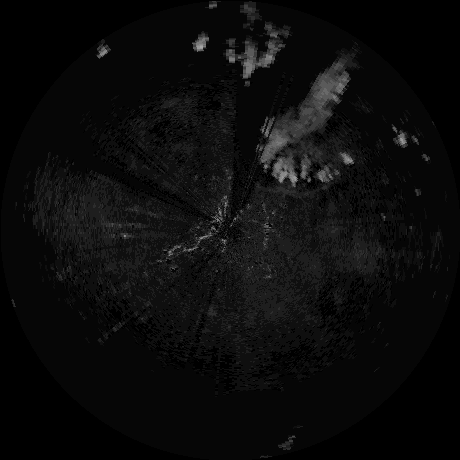frontgust: (250, 177, 329, 198)
